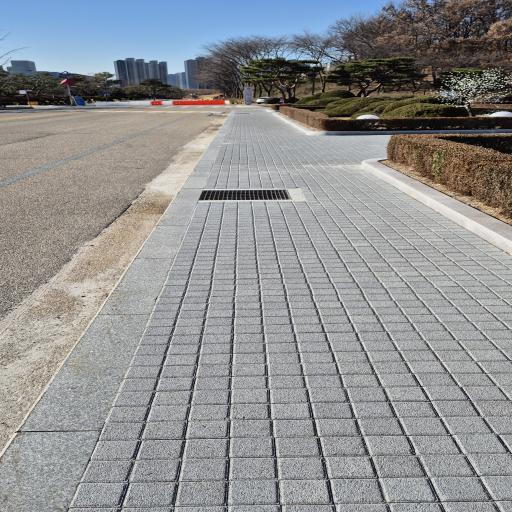drain: (199, 190, 292, 200)
